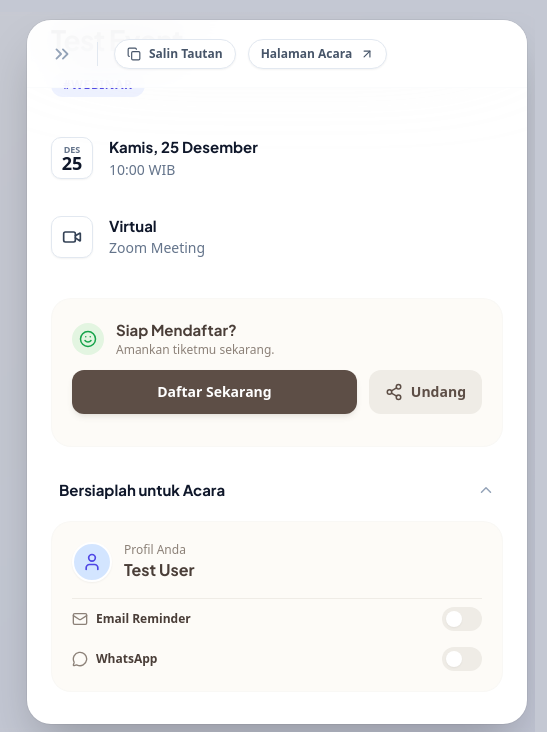
EventPreviewModal › toggles notifications when logged in
(page scrolled)
Click the button with test id "email-toggle": (143, 619) [72,607,482,631]
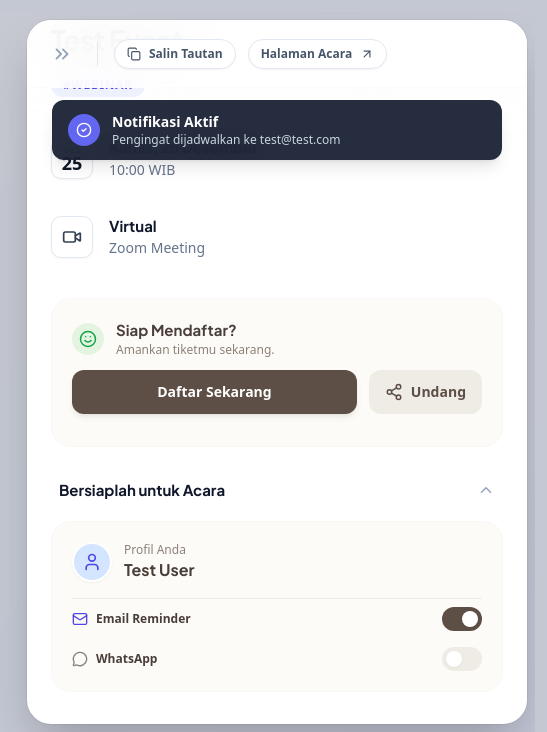
Now the text "Notifikasi Aktif" is shown, box [112,112,218,131]
Now the text "Pengingat dijadwalkan ke test@test.com" is shown, box [112,132,340,148]
// WhatsApp toggle
Click the button with test id "wa-toggle": (127, 659) [72,647,482,671]
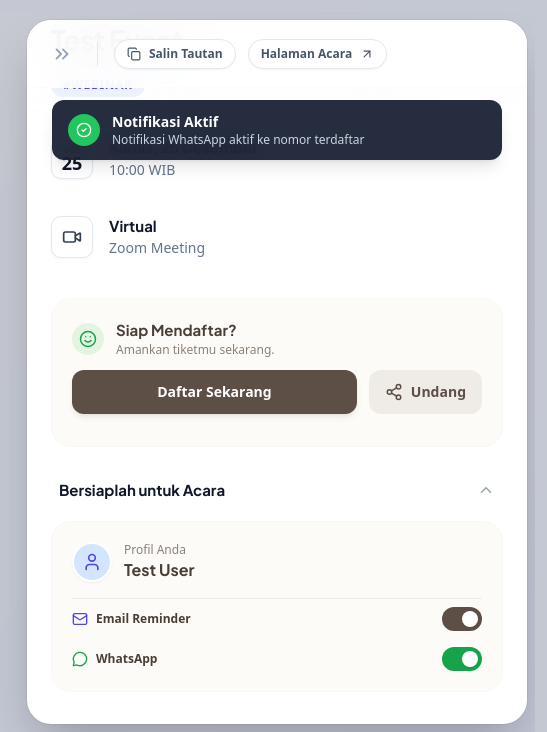
Now the text "Notifikasi WhatsApp aktif ke nomor terdaftar" is shown, box [112,132,364,148]
